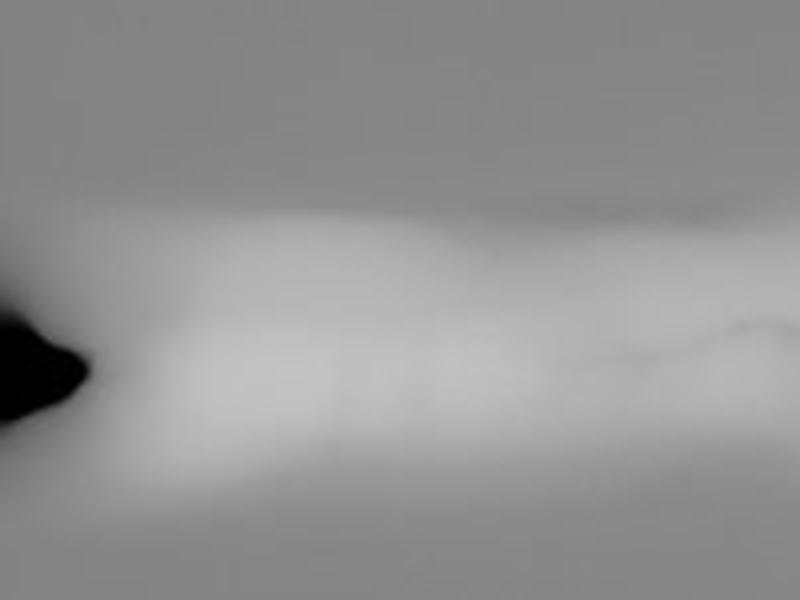defect: (4, 304, 94, 429)
